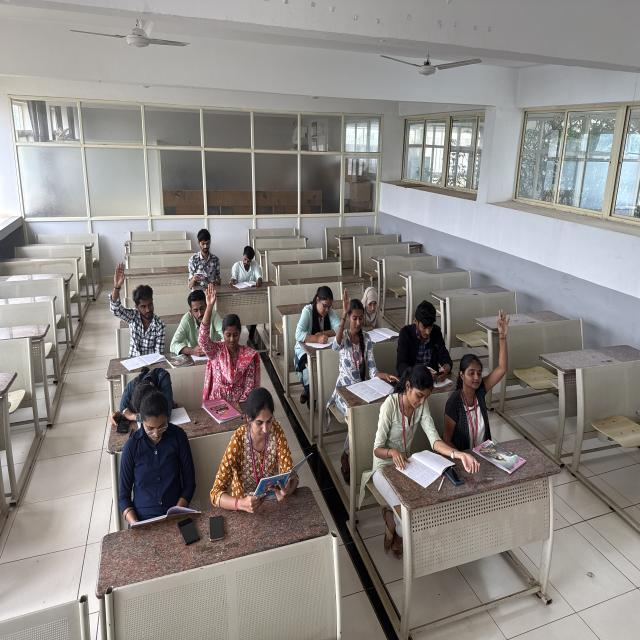Hand Rising: (444, 300, 528, 457), (329, 282, 388, 396), (196, 284, 256, 384), (100, 262, 168, 349)
Reading: (211, 386, 321, 509), (117, 396, 208, 528), (375, 368, 456, 485), (107, 360, 179, 414)
Using Phone: (391, 296, 460, 379)
Writing: (291, 269, 343, 357), (225, 241, 266, 292)
